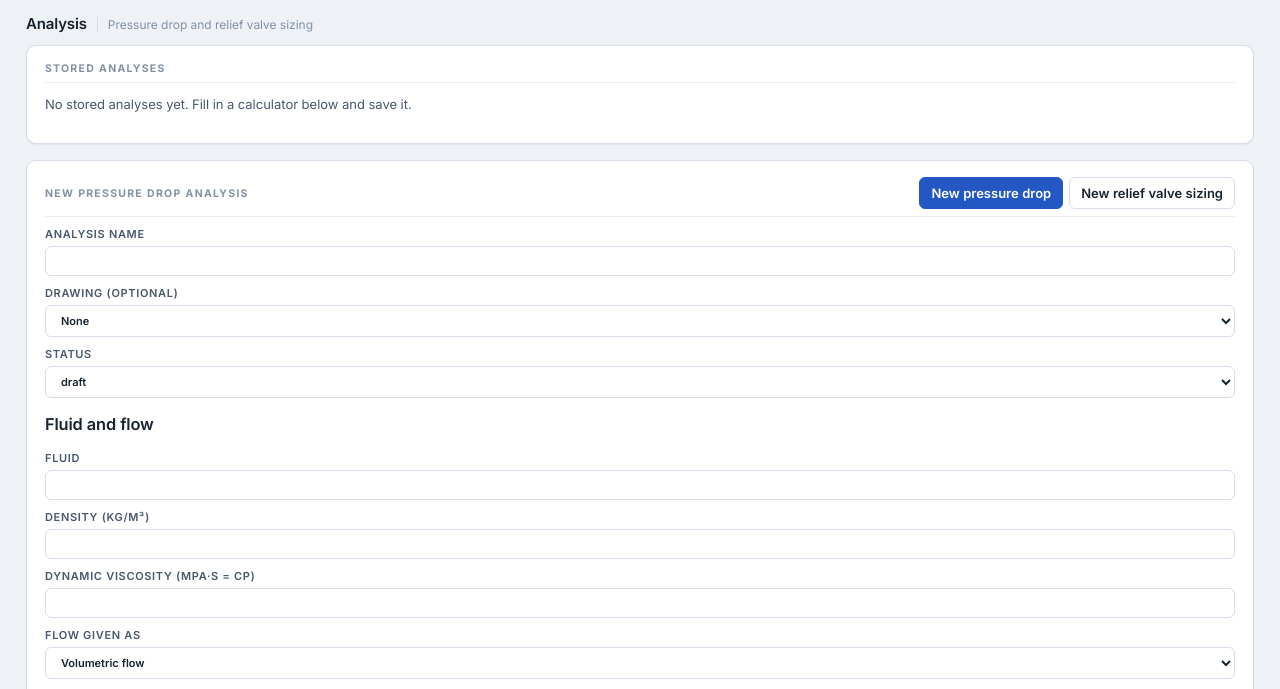
Test: AnalysisPage › fills the segments from the drawing's line list
Select "DWG-0001 · LN2 fill panel" in the dropdown labelled "Drawing (optional)" at (640, 321), box [45, 305, 1235, 337]
(page scrolled)
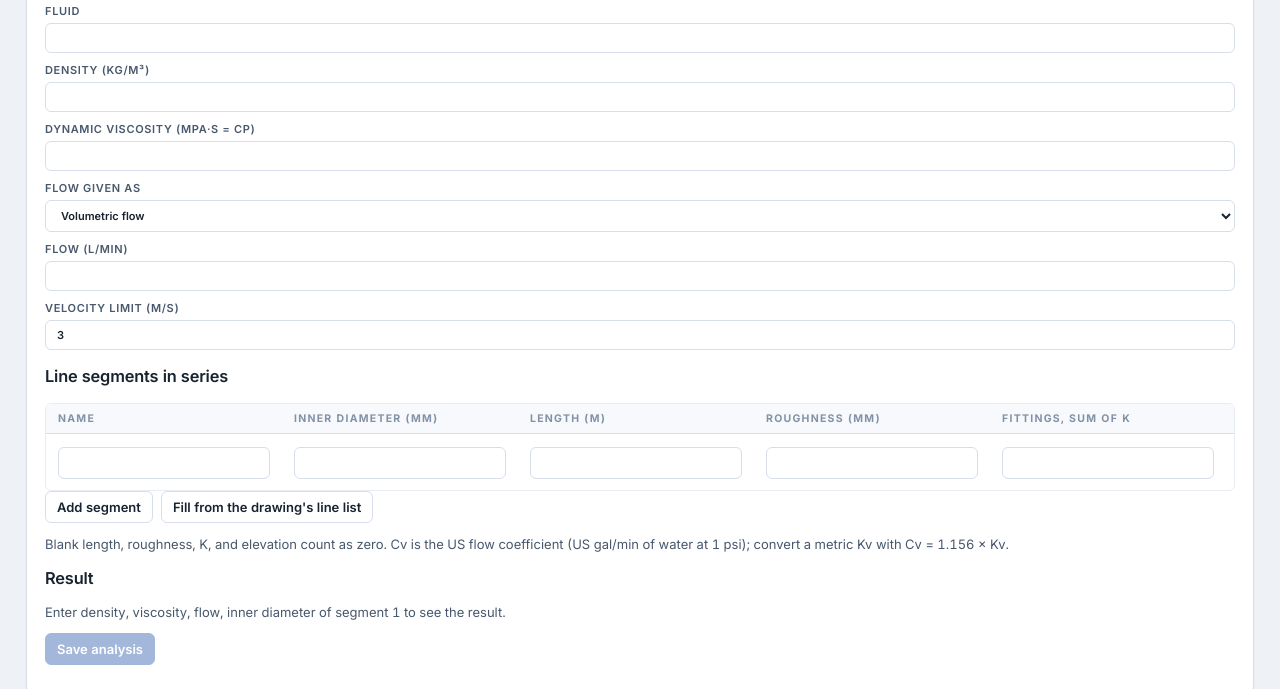
Click the button "Fill from the drawing's line list" at (267, 506), box [161, 490, 373, 522]
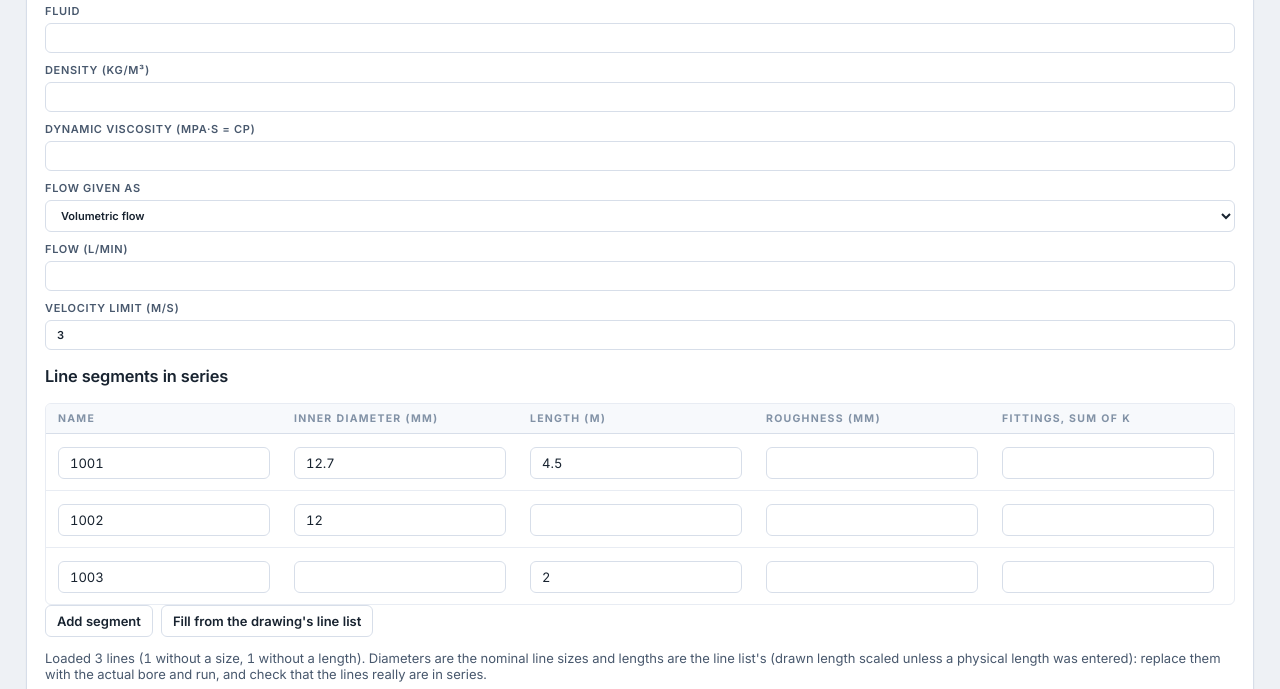
Now the text "Loaded 3 lines (1 without a size, 1 without a length). Diameters are the nominal line sizes" is shown, box [45, 650, 1221, 682]
Now the field named "Name, segment 1" holds "1001", box [58, 446, 270, 478]
Now the field named "Inner diameter, segment 1" holds "12.7", box [294, 446, 506, 478]
